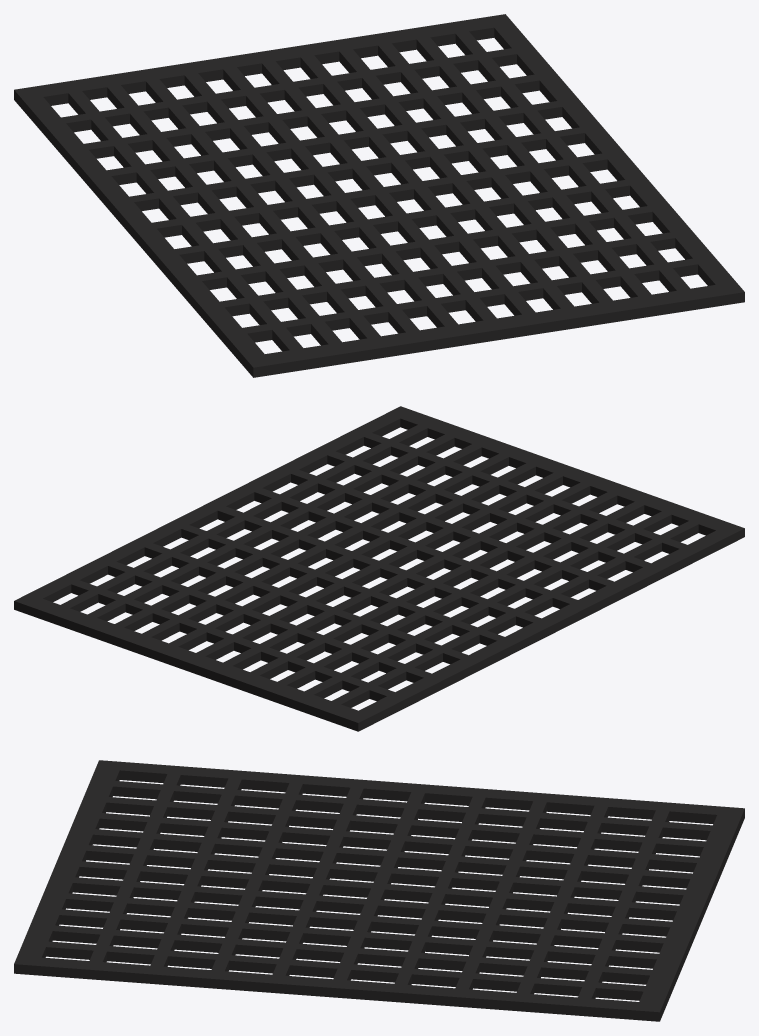
File: SM_Footboard.fbx
3 views of the same model, one above another, from view 1: azimuth 30°, elevation 25°; view 2: azimuth 150°, elevation 25°; view 3: azimuth 270°, elevation 25° (orthographic). The views are drawn at different scales.
Parts seen in each view (by area): view 1: SM_Footboard; view 2: SM_Footboard; view 3: SM_Footboard.
Boxes of the visible parts, left/top/right/bottom form: SM_Footboard: left=14, top=14, right=744, bottom=377; SM_Footboard: left=14, top=406, right=744, bottom=731; SM_Footboard: left=14, top=760, right=744, bottom=1021.
Size of the model in its own units: 33.46 by 41 by 0.5905.
Materials: 1 (1 with a texture image).
